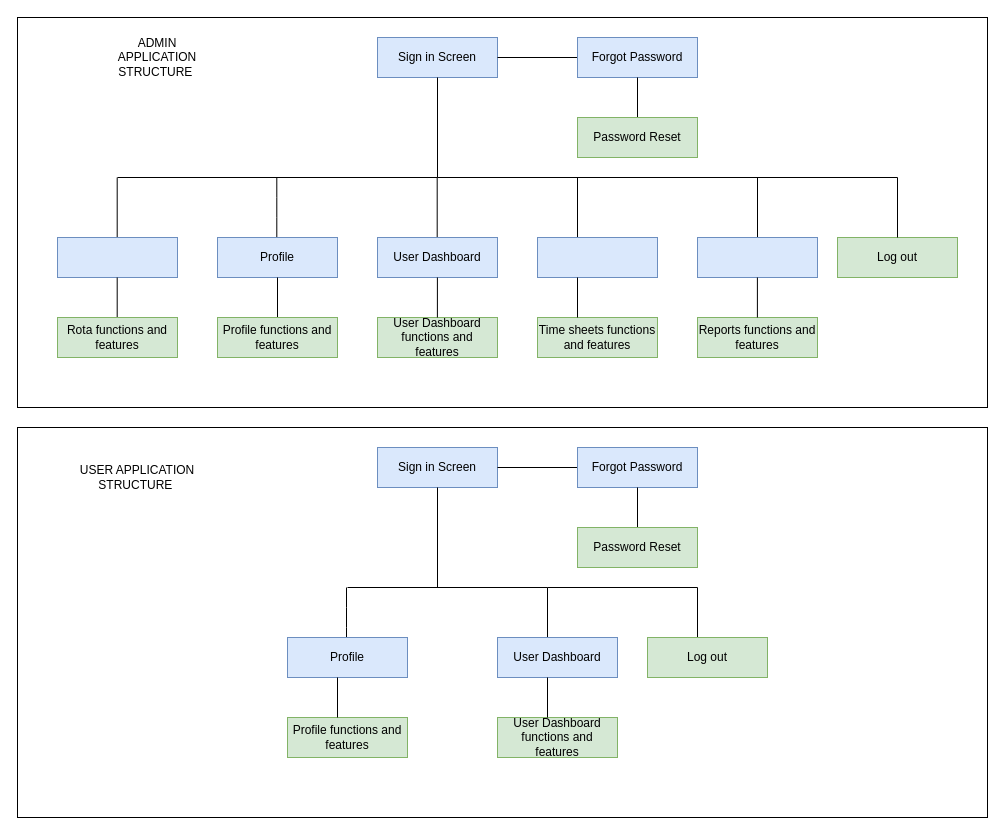
Some shapes in this 1005 by 835 pixel diagram are drawn without their labels. The centre of each missing label's shape, as x and y in pixels:
Reports: (x=757, y=257)
Rota: (x=117, y=257)
Time sheets: (x=597, y=257)
